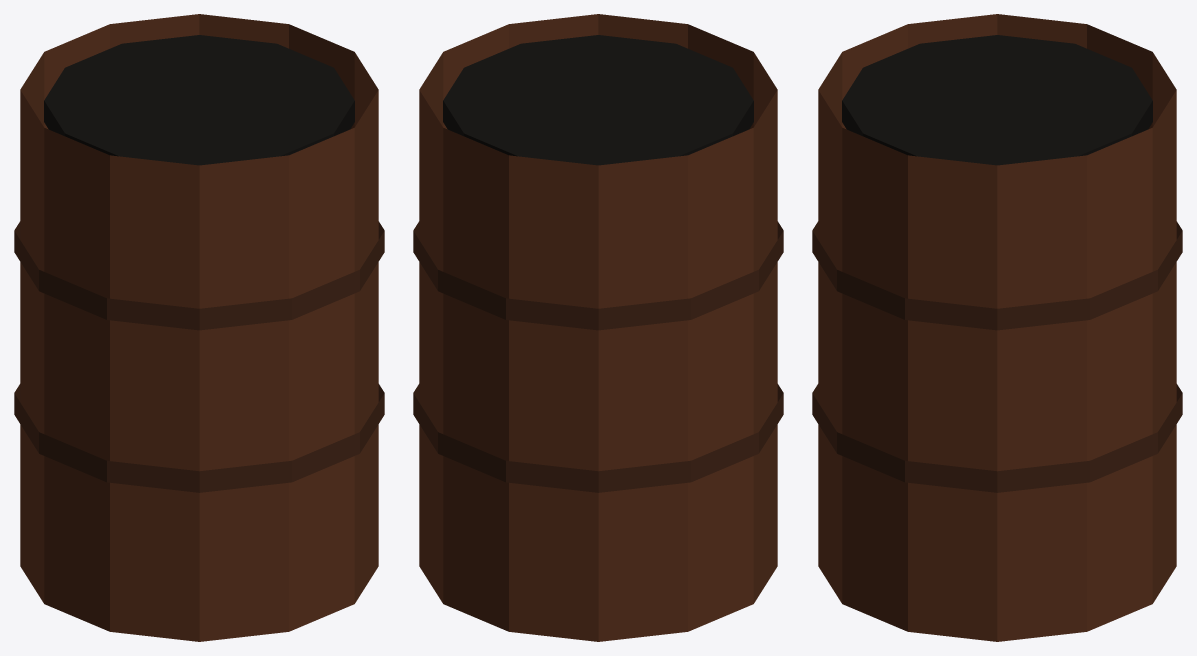
Rendered from ub_drum.glb.
3 views of the same model, side by side, from view 1: azimuth 30°, elevation 25°; view 2: azimuth 150°, elevation 25°; view 3: azimuth 270°, elevation 25° (orthographic).
Parts seen in each view (by area): view 1: ub_drum; view 2: ub_drum; view 3: ub_drum.
Part boxes in pixels (<box>): ub_drum: <box>14,14,384,641</box>; ub_drum: <box>413,14,783,641</box>; ub_drum: <box>812,14,1182,641</box>.
Size of the model in its own units: 0.62 by 0.88 by 0.62.
